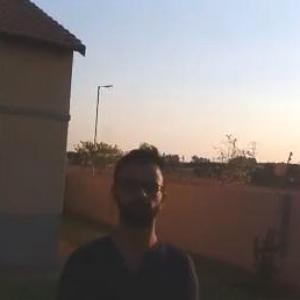follow: (44, 138, 204, 299)
